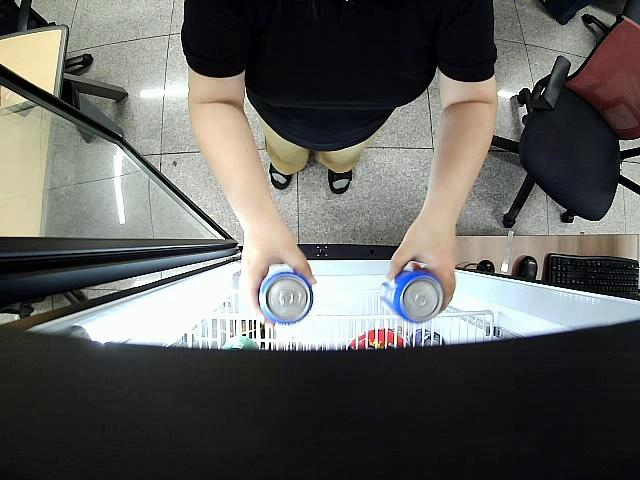00_hand: (241, 229, 318, 325), (385, 221, 457, 316)
13_pocariSweat: (380, 269, 444, 323), (258, 272, 313, 325)
